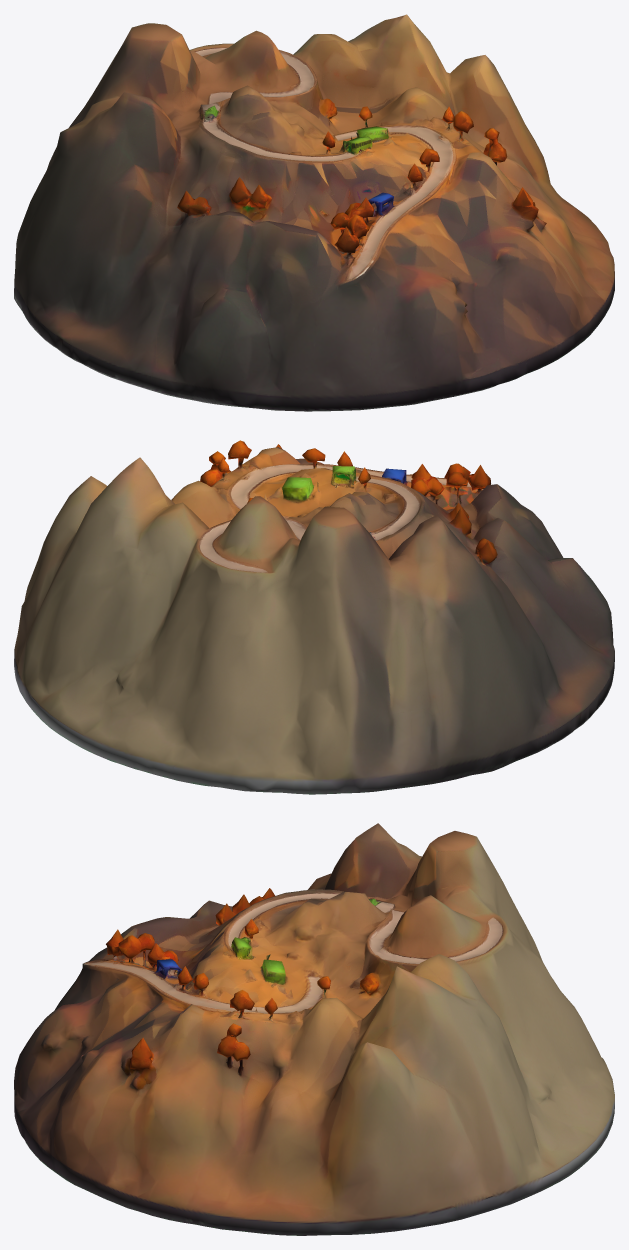
File: Meshy_AI_Winding_Road_Through__0302034727_texture.fbx
The picture shows the model from 3 angles, top to bottom: view 1: azimuth 30°, elevation 25°; view 2: azimuth 150°, elevation 25°; view 3: azimuth 270°, elevation 25°; orthographic projection.
Parts seen in each view (by area): view 1: Mesh_0; view 2: Mesh_0; view 3: Mesh_0.
Boxes of the visible parts, x1=… form: Mesh_0: x1=14, y1=14, x2=614, y2=411; Mesh_0: x1=14, y1=440, x2=614, y2=794; Mesh_0: x1=14, y1=823, x2=614, y2=1235.
Size of the model in its own units: 191 by 78.4 by 191.
Materials: 1 (1 with a texture image).
